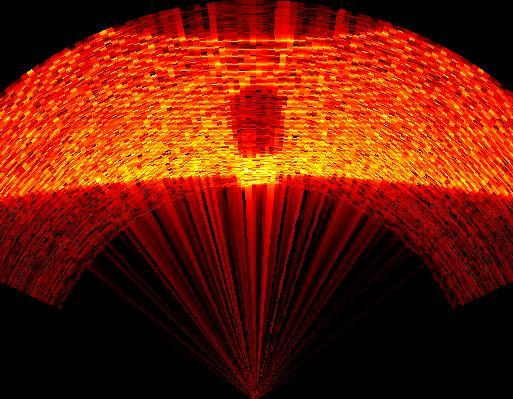box_crate: (224, 89, 286, 158)
